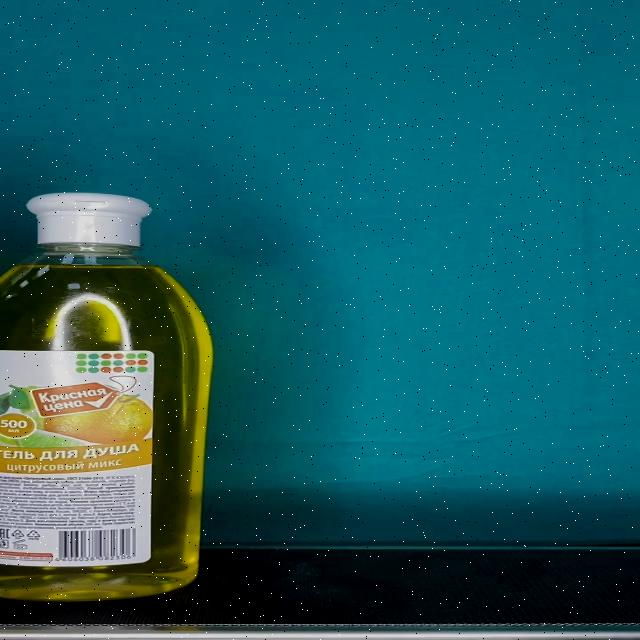Bottle: (0, 192, 213, 601)
Cap: (28, 193, 152, 245)
